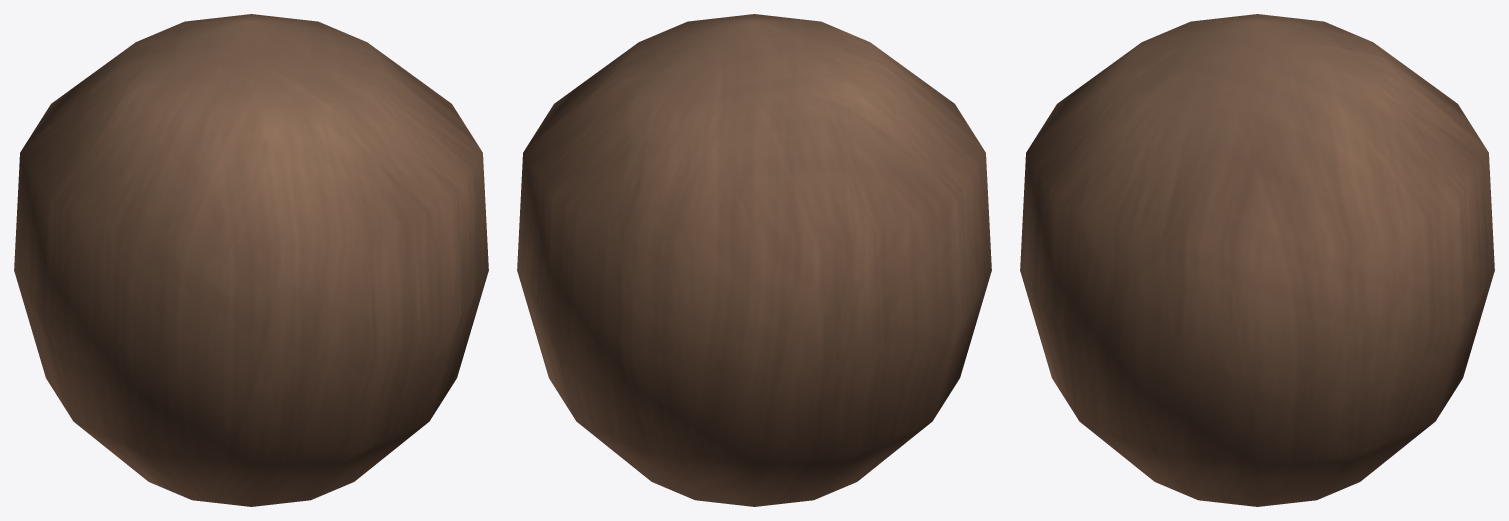
The model's file is cocoslice.fbx.
3 renders of one model, left to right at view 1: azimuth 30°, elevation 25°; view 2: azimuth 150°, elevation 25°; view 3: azimuth 270°, elevation 25°, orthographic.
Parts seen in each view (by area): view 1: Coconut; view 2: Coconut; view 3: Coconut.
Part boxes in pixels (left/top/right/bottom): Coconut: left=14, top=14, right=488, bottom=506; Coconut: left=517, top=14, right=991, bottom=506; Coconut: left=1020, top=14, right=1494, bottom=506.
Bounding box in the file's own units: 51.69 × 55.8 × 51.69.
